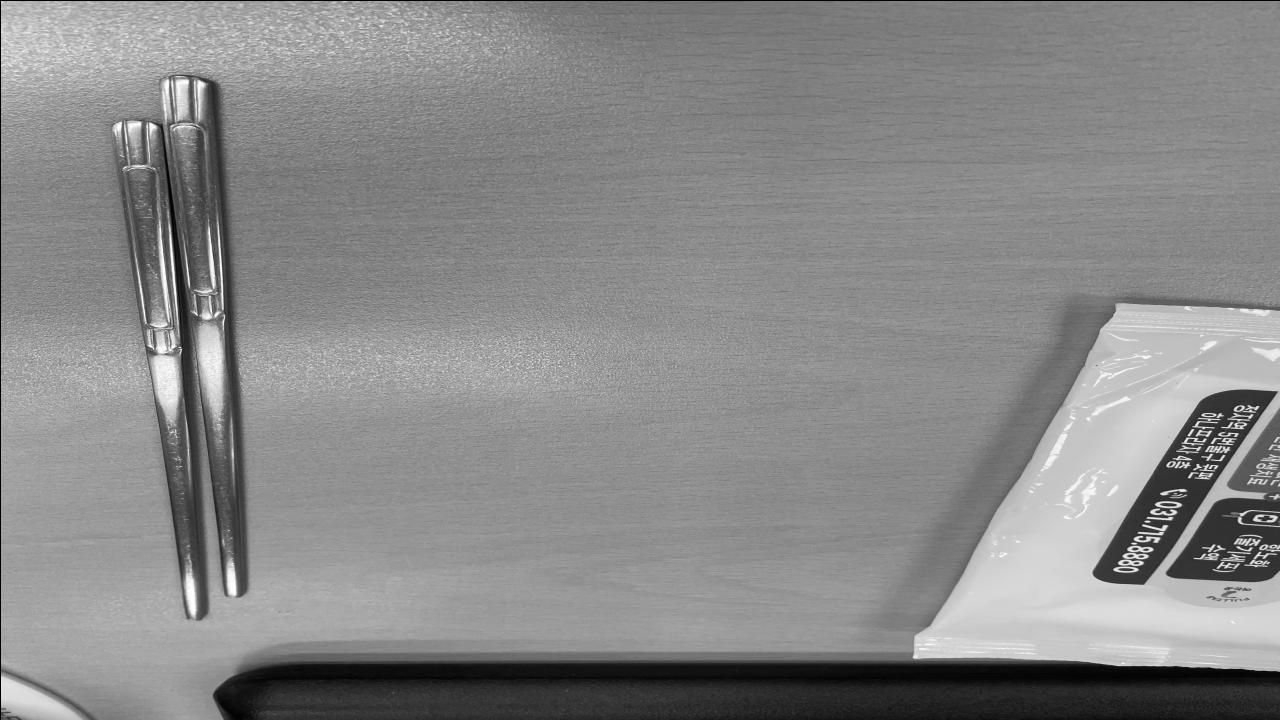chopstick: (114, 74, 252, 616)
